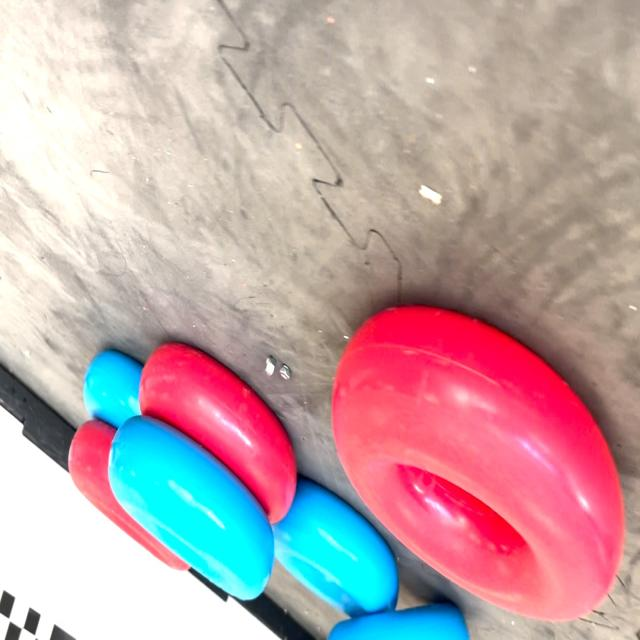Blue-Ring: (109, 416, 274, 600), (272, 478, 399, 618), (329, 602, 469, 640), (82, 351, 142, 427)
Red-Ring: (332, 307, 625, 620), (139, 342, 296, 522), (69, 420, 189, 569)
